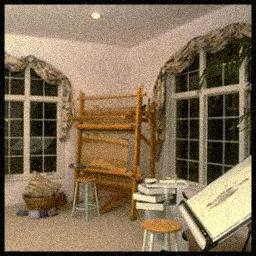Otro Obstaculo: (17, 177, 65, 225)
